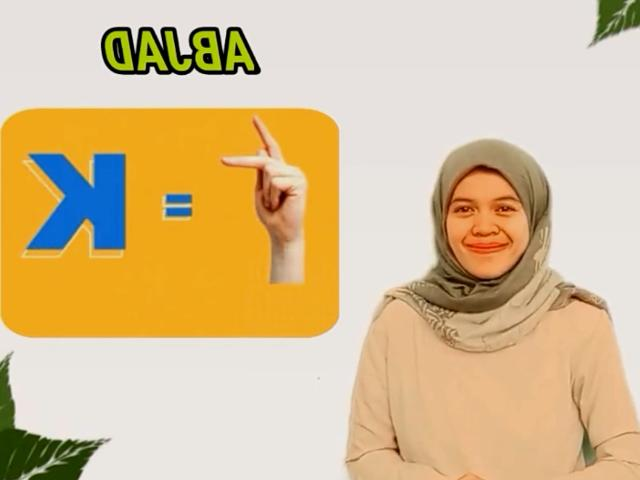K: (210, 108, 314, 292)
